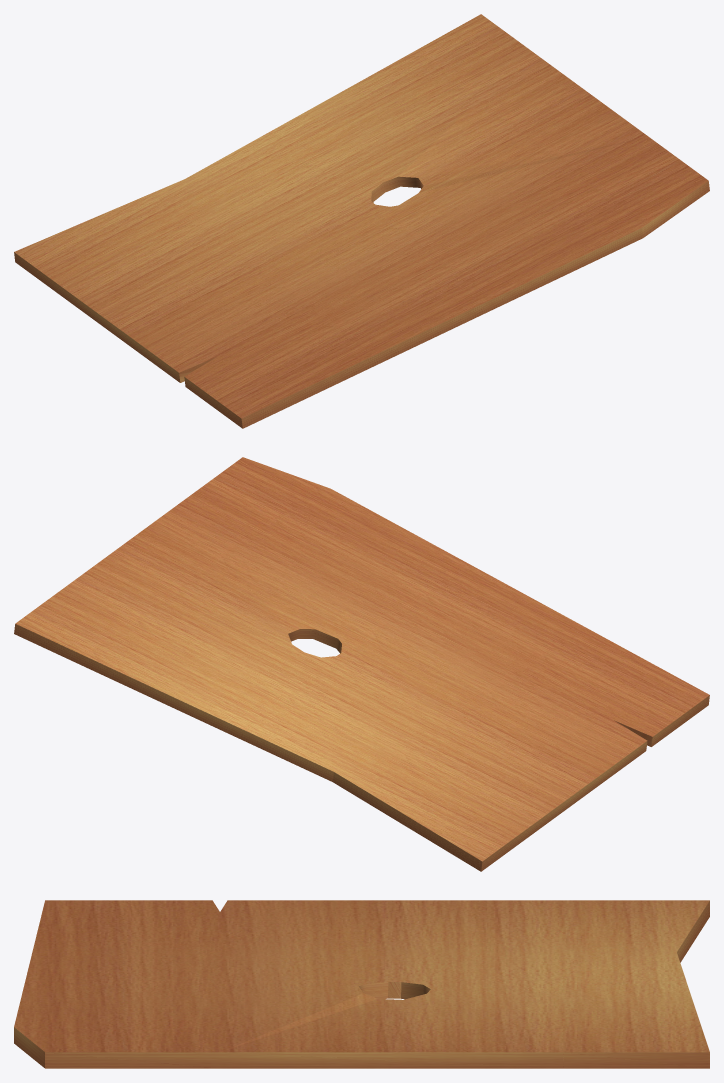
File: prop_Big_Short_Plank.FBX
3 renders of one model, top to bottom at view 1: azimuth 30°, elevation 25°; view 2: azimuth 150°, elevation 25°; view 3: azimuth 270°, elevation 25°, orthographic. The views are drawn at different scales.
Parts seen in each view (by area): view 1: Box001; view 2: Box001; view 3: Box001.
Boxes of the visible parts, <box> form: Box001: <box>14,14,709,428</box>; Box001: <box>14,457,709,871</box>; Box001: <box>14,900,709,1068</box>.
Bounding box in the file's own units: 78.67 × 21.6 × 69.3.
